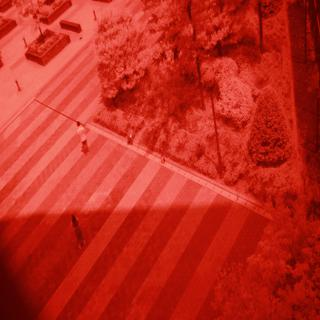person: (71, 113, 96, 161), (65, 206, 90, 252)
